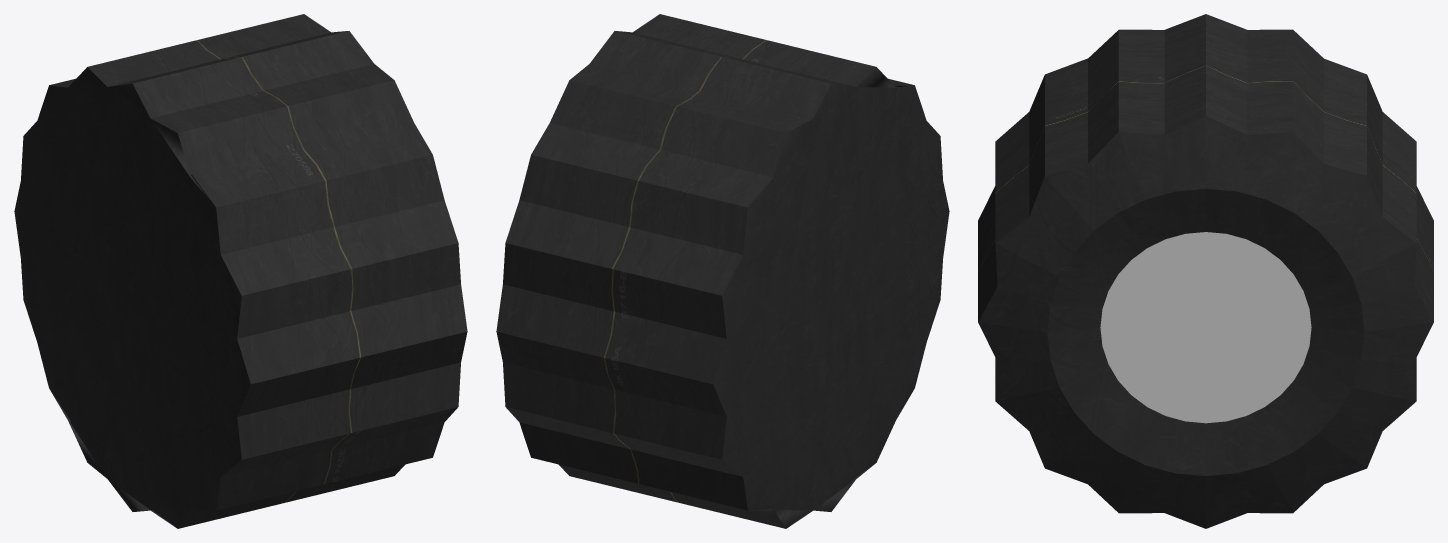
The model's file is tire.fbx.
3 views of the same model, side by side, from view 1: azimuth 30°, elevation 25°; view 2: azimuth 150°, elevation 25°; view 3: azimuth 270°, elevation 25° (orthographic). The views are drawn at different scales.
Parts seen in each view (by area): view 1: wheels; view 2: wheels; view 3: wheels.
Part boxes in pixels (bbox=[...]): wheels: bbox=[14, 14, 467, 528]; wheels: bbox=[496, 14, 949, 528]; wheels: bbox=[978, 14, 1433, 528].
Size of the model in its own units: 65.55 by 111 by 111.
